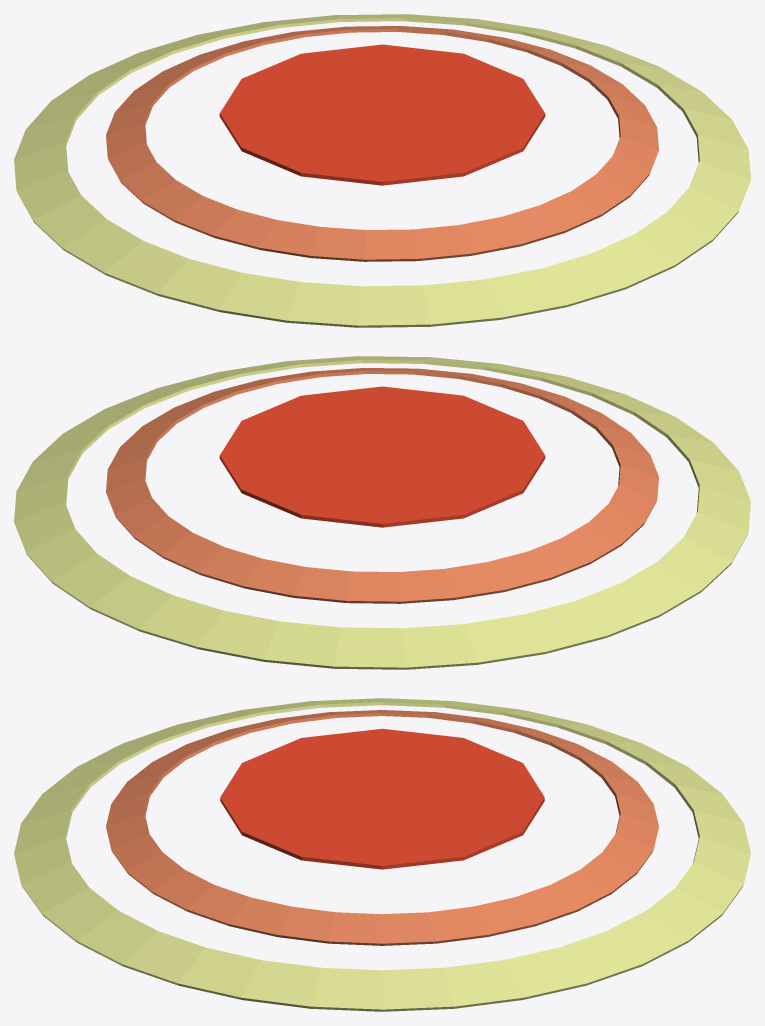
Rendered from ActionPoint.fbx.
3 renders of one model, top to bottom at view 1: azimuth 30°, elevation 25°; view 2: azimuth 150°, elevation 25°; view 3: azimuth 270°, elevation 25°, orthographic.
Visible parts, largest first — view 1: Circle; view 2: Circle; view 3: Circle.
Part boxes in pixels (x1,y1,x2,y2): Circle: [14, 14, 750, 327]; Circle: [14, 356, 750, 669]; Circle: [14, 698, 750, 1011].
Size of the model in its own units: 232 by 20.59 by 232.
